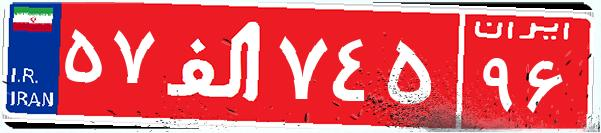4: (330, 28, 385, 110)
5: (385, 28, 445, 110), (57, 26, 110, 107)
6: (525, 38, 570, 115)
7: (273, 28, 330, 110), (110, 28, 158, 105)
9: (475, 38, 525, 113)
الف: (158, 15, 273, 115)
